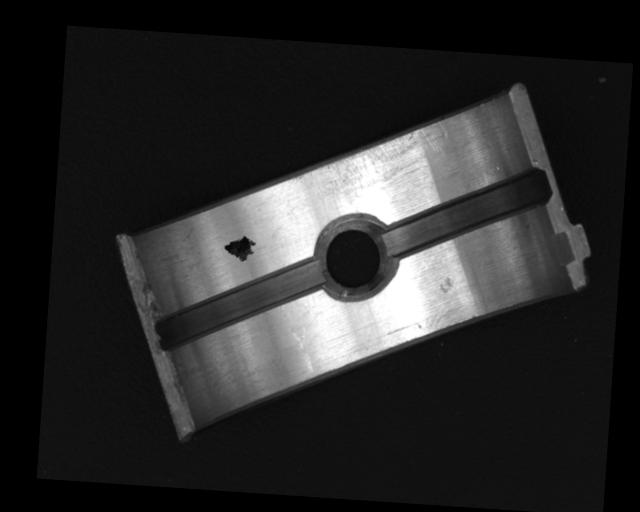blot: (221, 233, 258, 263)
bruise: (436, 276, 454, 295)
gap: (154, 248, 323, 359), (383, 159, 551, 263)
hole: (316, 211, 395, 302)
nick: (282, 320, 316, 373)
scratch: (305, 111, 446, 209)
